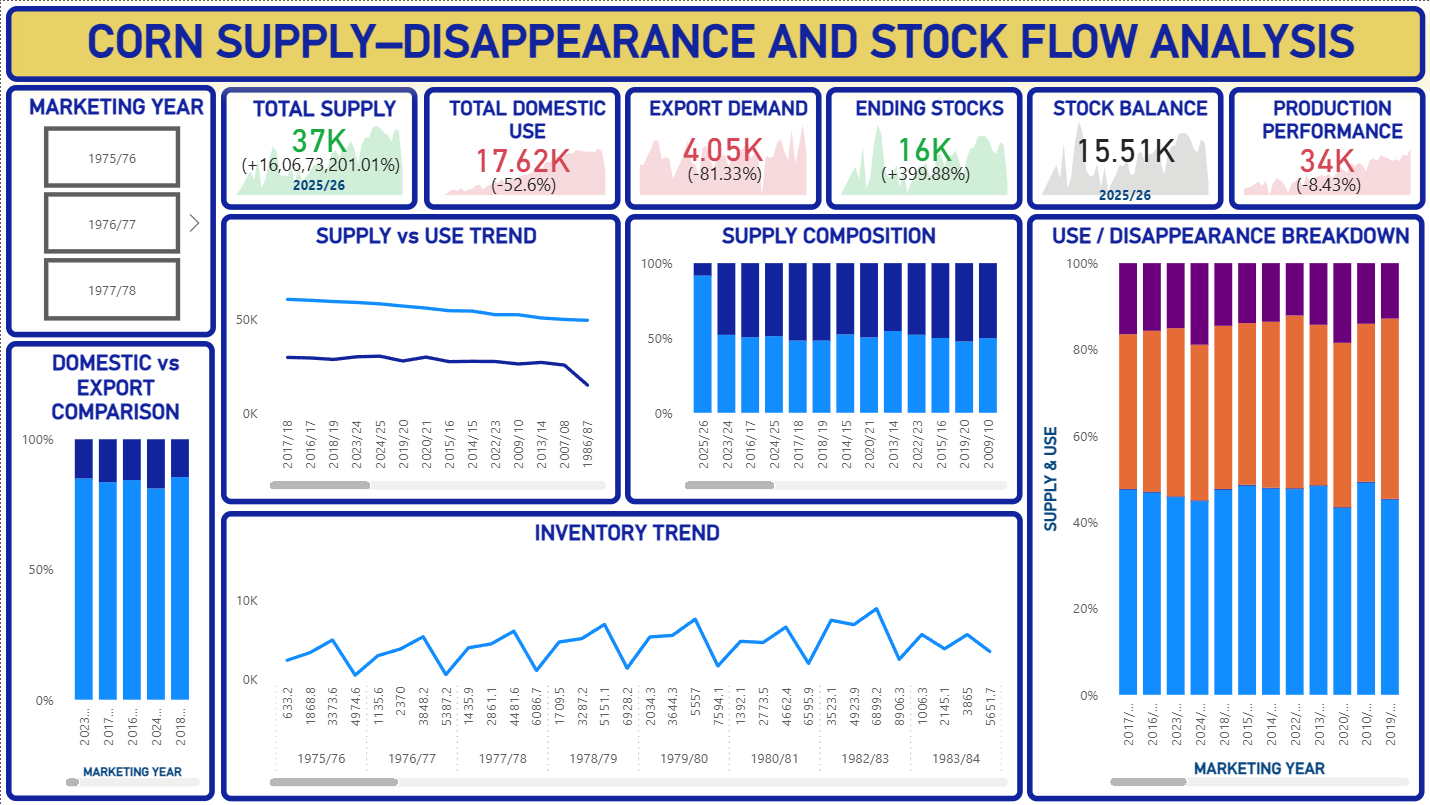

The dashboard page shown, as its layout file describes it:
{"tool":"powerbi","page":{"name":"Page 1","canvas":[1280,720],"ordinal":0},"visuals":[{"type":"kpi","title":"TOTAL SUPPLY","fields":{"Indicator":["Sum(corn_supply_disappearance_full.total_supply)"],"TrendLine":["corn_supply_disappearance_full.marketing_year"],"Goal":["Sum(corn_supply_disappearance_full.total_use)"]},"box":[196.7,76.7,175.6,110],"z":0},{"type":"textbox","title":"CORN SUPPLY–DISAPPEARANCE AND STOCK FLOW ANALYSIS","box":[4.4,4.4,1271.1,67.8],"z":1000},{"type":"kpi","title":"PRODUCTION PERFORMANCE","fields":{"TrendLine":["corn_supply_disappearance_full.marketing_year"],"Indicator":["Sum(corn_supply_disappearance_full.production)"],"Goal":["Sum(corn_supply_disappearance_full.total_supply)"]},"box":[1100,76.7,175.6,110],"z":2000},{"type":"kpi","title":"TOTAL DOMESTIC USE","fields":{"TrendLine":["corn_supply_disappearance_full.marketing_year"],"Goal":["Sum(corn_supply_disappearance_full.total_supply)"],"Indicator":["Sum(corn_supply_disappearance_full.total_domestic_use)"]},"box":[378.9,76.7,175.6,110],"z":3000},{"type":"kpi","title":"EXPORT DEMAND","fields":{"TrendLine":["corn_supply_disappearance_full.marketing_year"],"Goal":["Sum(corn_supply_disappearance_full.total_use)"],"Indicator":["Sum(corn_supply_disappearance_full.exports)"]},"box":[558.9,76.7,175.6,110],"z":4000},{"type":"kpi","title":"ENDING STOCKS","fields":{"TrendLine":["corn_supply_disappearance_full.marketing_year"],"Goal":["Sum(corn_supply_disappearance_full.beginning_stocks)"],"Indicator":["Sum(corn_supply_disappearance_full.ending_stocks)"]},"box":[738.9,76.7,175.6,110],"z":5000},{"type":"kpi","title":"STOCK BALANCE","fields":{"TrendLine":["corn_supply_disappearance_full.marketing_year"],"Indicator":["corn_supply_disappearance_full.Stock Balance"]},"box":[918.9,76.7,175.6,110],"z":6000},{"type":"slicer","title":"MARKETING YEAR","fields":{"Values":["corn_supply_disappearance_full.marketing_year"]},"box":[4.4,75.6,187.8,225.6],"z":7000},{"type":"lineChart","title":"SUPPLY vs USE TREND","fields":{"Category":["corn_supply_disappearance_full.marketing_year"],"Y":["Sum(corn_supply_disappearance_full.total_supply)","Sum(corn_supply_disappearance_full.total_use)"]},"box":[196.7,191.1,357.8,260],"z":8000},{"type":"hundredPercentStackedColumnChart","title":"SUPPLY COMPOSITION","fields":{"Category":["corn_supply_disappearance_full.marketing_year"],"Y":["Sum(corn_supply_disappearance_full.production)","Sum(corn_supply_disappearance_full.beginning_stocks)"]},"box":[558.9,191.1,355.6,260],"z":8001},{"type":"hundredPercentStackedColumnChart","title":"USE / DISAPPEARANCE BREAKDOWN","fields":{"Category":["corn_supply_disappearance_full.marketing_year"],"Y":["Sum(corn_supply_disappearance_full.industrial_use)","Sum(corn_supply_disappearance_full.seed_use)","Sum(corn_supply_disappearance_full.feed_residual)","Sum(corn_supply_disappearance_full.exports)"]},"box":[918.9,191.1,355.6,525.6],"z":8002},{"type":"hundredPercentStackedColumnChart","title":"DOMESTIC vs EXPORT COMPARISON","fields":{"Category":["corn_supply_disappearance_full.marketing_year"],"Y":["Sum(corn_supply_disappearance_full.total_domestic_use)","Sum(corn_supply_disappearance_full.exports)"]},"box":[4.4,304.4,186.7,412.2],"z":8003},{"type":"lineChart","title":"INVENTORY TREND","fields":{"Category":["corn_supply_disappearance_full.marketing_year","corn_supply_disappearance_full.ending_stocks"],"Y":["Sum(corn_supply_disappearance_full.beginning_stocks)"]},"box":[196.7,456.7,717.8,260],"z":8004}]}

Visuals, with their boxes in screenshot pixels (x1, y1, x2, y2), scaled from the page's 1280x720 canvas onto the 1430x805 screenshot:
"TOTAL SUPPLY" kpi: 220, 86, 416, 209
"CORN SUPPLY–DISAPPEARANCE AND STOCK FLOW ANALYSIS" textbox: 5, 5, 1425, 81
"PRODUCTION PERFORMANCE" kpi: 1229, 86, 1425, 209
"TOTAL DOMESTIC USE" kpi: 423, 86, 619, 209
"EXPORT DEMAND" kpi: 624, 86, 821, 209
"ENDING STOCKS" kpi: 825, 86, 1022, 209
"STOCK BALANCE" kpi: 1027, 86, 1223, 209
"MARKETING YEAR" slicer: 5, 85, 215, 337
"SUPPLY vs USE TREND" lineChart: 220, 214, 619, 504
"SUPPLY COMPOSITION" hundredPercentStackedColumnChart: 624, 214, 1022, 504
"USE / DISAPPEARANCE BREAKDOWN" hundredPercentStackedColumnChart: 1027, 214, 1424, 801
"DOMESTIC vs EXPORT COMPARISON" hundredPercentStackedColumnChart: 5, 340, 213, 801
"INVENTORY TREND" lineChart: 220, 511, 1022, 801
